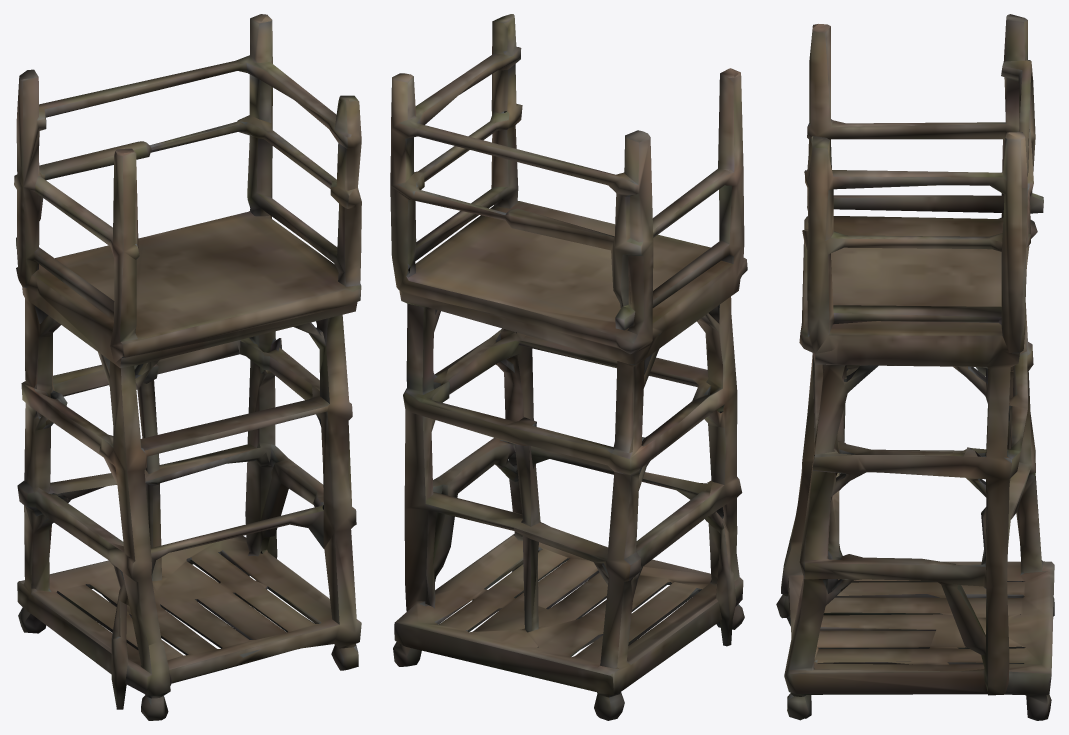
File: simple-wood-scaffold-tower-v002.glb
3 renders of one model, left to right at view 1: azimuth 30°, elevation 25°; view 2: azimuth 150°, elevation 25°; view 3: azimuth 270°, elevation 25°, orthographic. The views are drawn at different scales.
Parts seen in each view (by area): view 1: simple-wood-scaffold-tower; view 2: simple-wood-scaffold-tower; view 3: simple-wood-scaffold-tower.
Boxes of the visible parts, box(x1,y1,x2,y2) form: simple-wood-scaffold-tower: box(14, 14, 361, 720); simple-wood-scaffold-tower: box(390, 14, 747, 720); simple-wood-scaffold-tower: box(776, 14, 1054, 720).
Bounding box in the file's own units: 1.31 × 2.84 × 1.2.
1 material, 1 textured.
